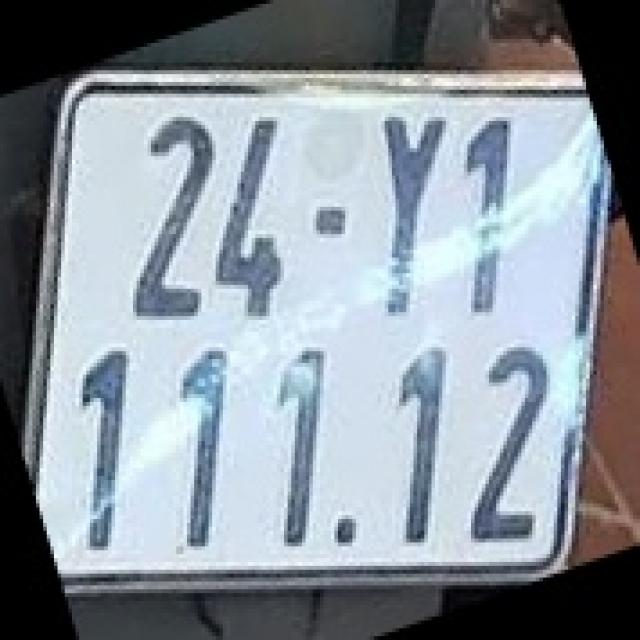1: (169, 340, 237, 554), (266, 340, 334, 550), (72, 340, 137, 554), (385, 344, 453, 546), (457, 109, 521, 316)
2: (126, 109, 212, 320), (468, 339, 550, 546)
4: (215, 113, 288, 320)
Y: (376, 109, 448, 320)
